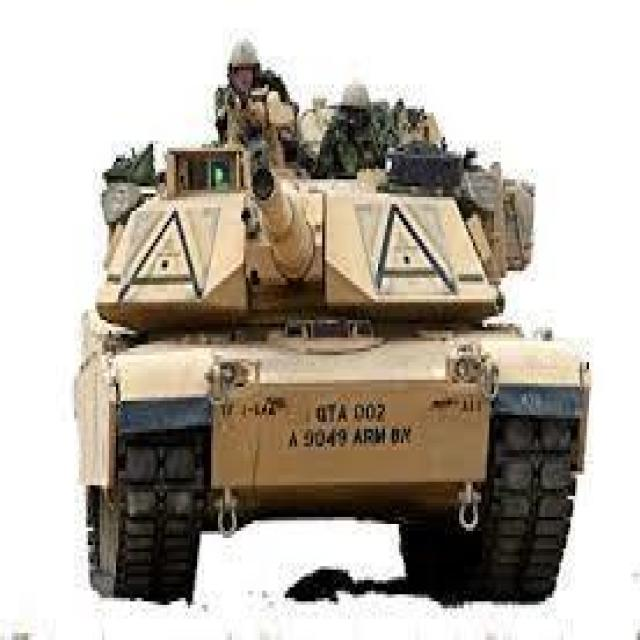Tanks: (58, 88, 570, 601)
